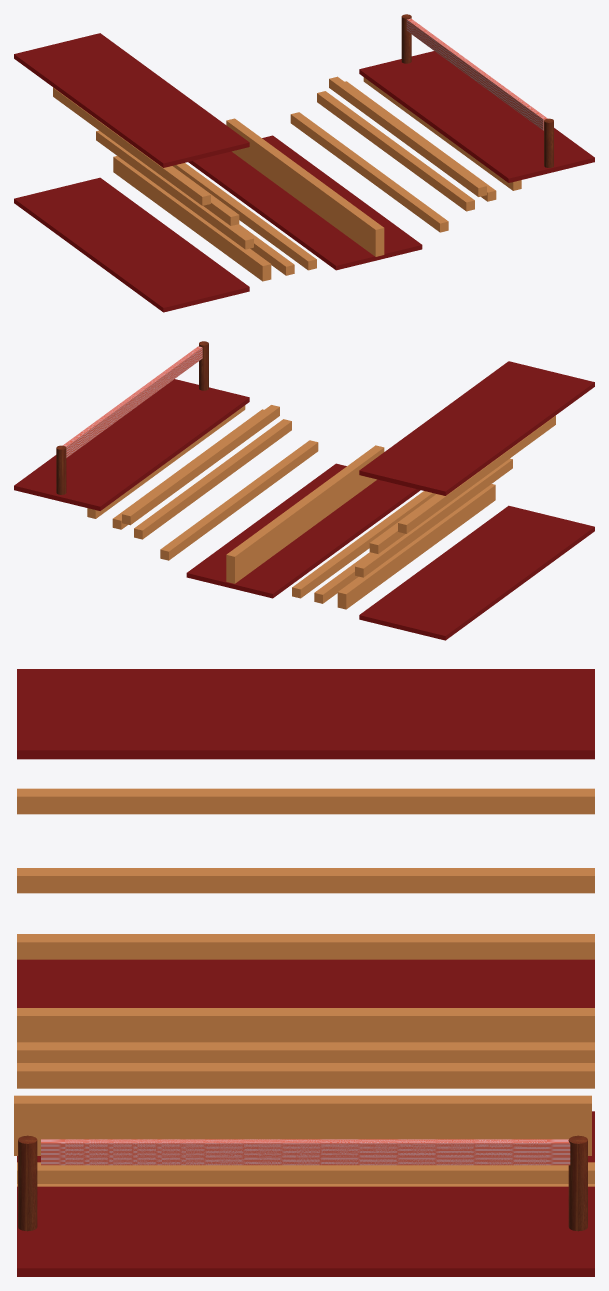
The model's file is H_Stage_2D.fbx.
3 views of the same model, one above another, from view 1: azimuth 30°, elevation 25°; view 2: azimuth 150°, elevation 25°; view 3: azimuth 270°, elevation 25° (orthographic). The views are drawn at different scales.
Visible parts, largest first — view 1: plane, plane__1_, plane3, plane2, block3, block4, block5, block3w, block__1_, block__3_, block__2_, block__5_ (+11 smaller); view 2: plane, plane__1_, plane3, plane2, block3, block5, block4, block3w, block__1_, block__3_, block__5_, block__2_ (+14 smaller); view 3: plane__1_, plane3, plane, block__5_, block3w, block__1_, block__3_, block__4_, block__2_, block2, block2w, block5 (+12 smaller).
Boxes of the visible parts, x1,y1,x2,y2 form: plane: (14, 177, 249, 312); plane__1_: (14, 33, 249, 167); plane3: (359, 51, 594, 182); plane2: (188, 135, 422, 270); block3: (290, 112, 448, 232); block4: (317, 91, 474, 211); block5: (329, 76, 486, 196); block3w: (226, 118, 384, 238); block__1_: (173, 163, 316, 270); block__3_: (96, 130, 253, 249); block__2_: (113, 156, 271, 274); block__5_: (53, 87, 210, 205); plane: (359, 505, 594, 640); plane__1_: (359, 361, 594, 495); plane3: (14, 379, 249, 510); plane2: (186, 463, 420, 598); block3: (160, 440, 318, 560); block5: (122, 405, 279, 525); block4: (134, 419, 291, 539); block3w: (226, 445, 384, 565); block__1_: (292, 491, 435, 598); block__3_: (355, 458, 512, 577); block__5_: (398, 415, 555, 533); block__2_: (337, 484, 495, 600); plane__1_: (17, 669, 594, 759); plane3: (17, 1186, 594, 1276); plane: (17, 959, 594, 1007); block__5_: (17, 788, 594, 814); block3w: (14, 1095, 591, 1120); block__1_: (17, 1063, 594, 1088); block__3_: (17, 934, 594, 959); block__4_: (17, 868, 594, 893); block__2_: (17, 1008, 594, 1033); block2: (17, 1042, 594, 1062); block2w: (14, 1121, 591, 1138); block5: (17, 1162, 594, 1183).
Bounding box in the file's own units: 5000 × 1650 × 3016.
